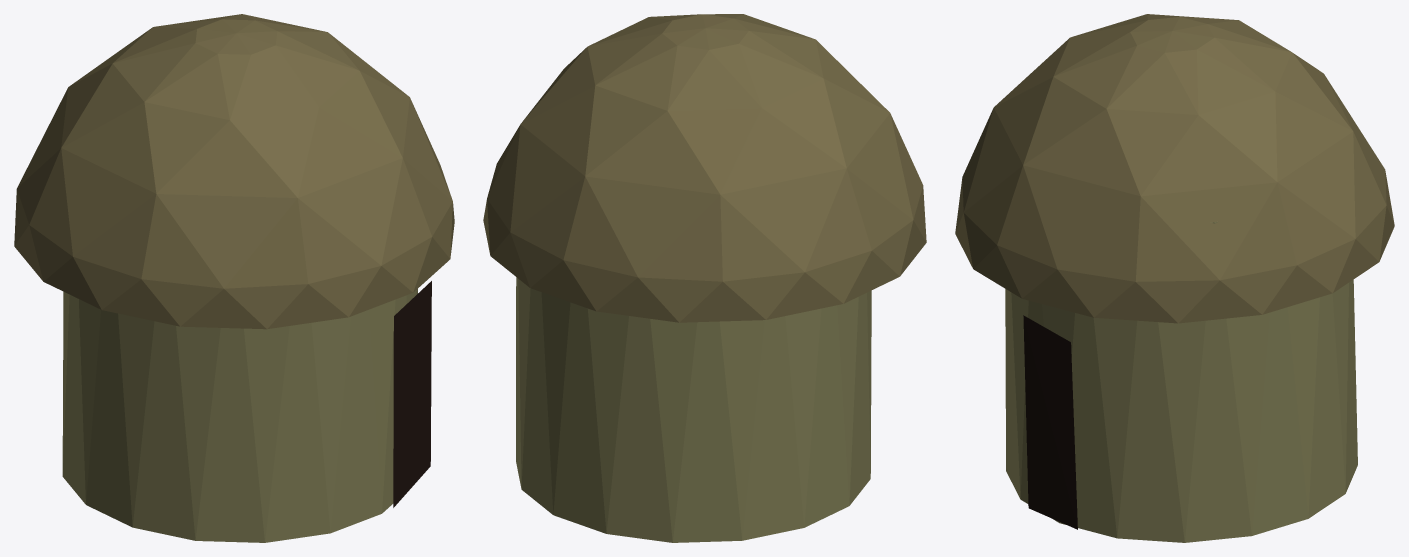
The model's file is Hut.dae.
3 views of the same model, side by side, from view 1: azimuth 30°, elevation 25°; view 2: azimuth 150°, elevation 25°; view 3: azimuth 270°, elevation 25° (orthographic).
Parts seen in each view (by area): view 1: Sphere, Cylinder, Plane; view 2: Sphere, Cylinder; view 3: Sphere, Cylinder, Plane.
Part boxes in pixels (x1,y1,x2,y2): Sphere: (14, 14, 454, 329); Cylinder: (62, 289, 417, 542); Plane: (393, 281, 431, 507); Sphere: (483, 14, 926, 322); Cylinder: (516, 277, 871, 542); Sphere: (955, 14, 1394, 323); Cylinder: (1005, 221, 1357, 542); Plane: (1023, 315, 1077, 529).
Bounding box in the file's own units: 0.9738 × 0.9737 × 1.07.
